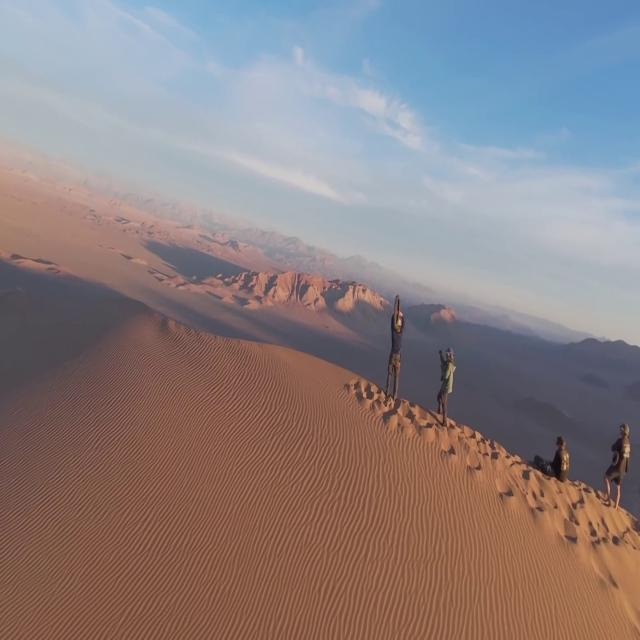Tire: (393, 295, 400, 328)
